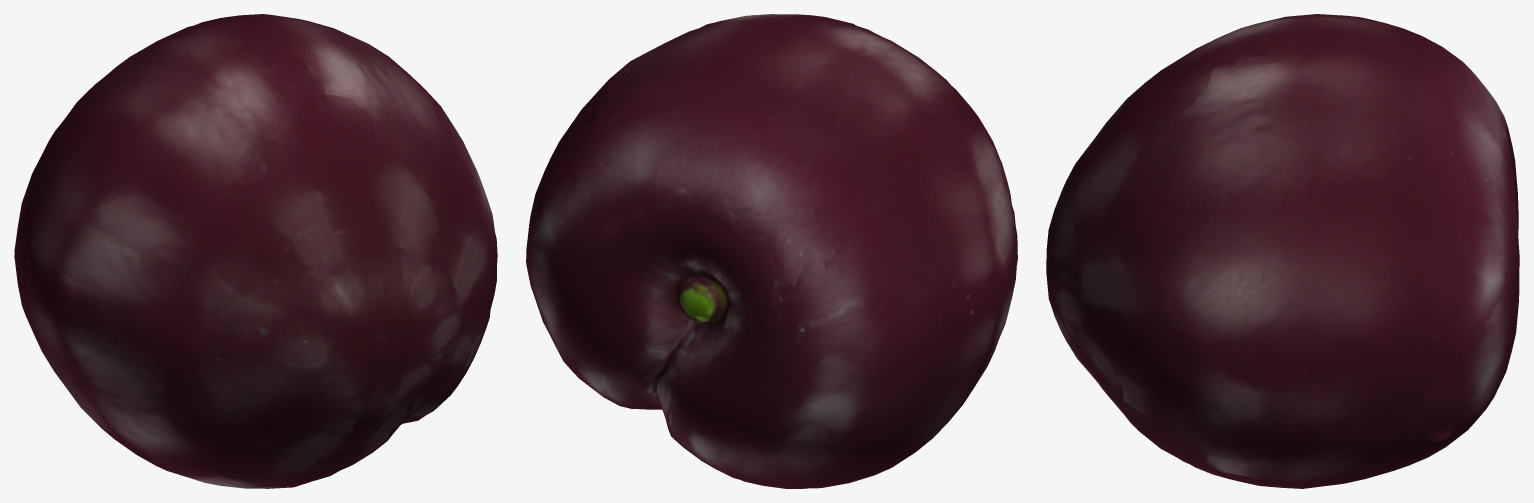
3 views of the same model, side by side, from view 1: azimuth 30°, elevation 25°; view 2: azimuth 150°, elevation 25°; view 3: azimuth 270°, elevation 25° (orthographic). The views are drawn at different scales.
Parts seen in each view (by area): view 1: textured.031; view 2: textured.031; view 3: textured.031.
Part boxes in pixels (box(x1,y1,x2,y2)): textured.031: box(14, 14, 497, 488); textured.031: box(526, 14, 1017, 488); textured.031: box(1046, 14, 1519, 488).
Size of the model in its own units: 0.0572 by 0.0549 by 0.053.
Materials: 1 (1 with a texture image).
